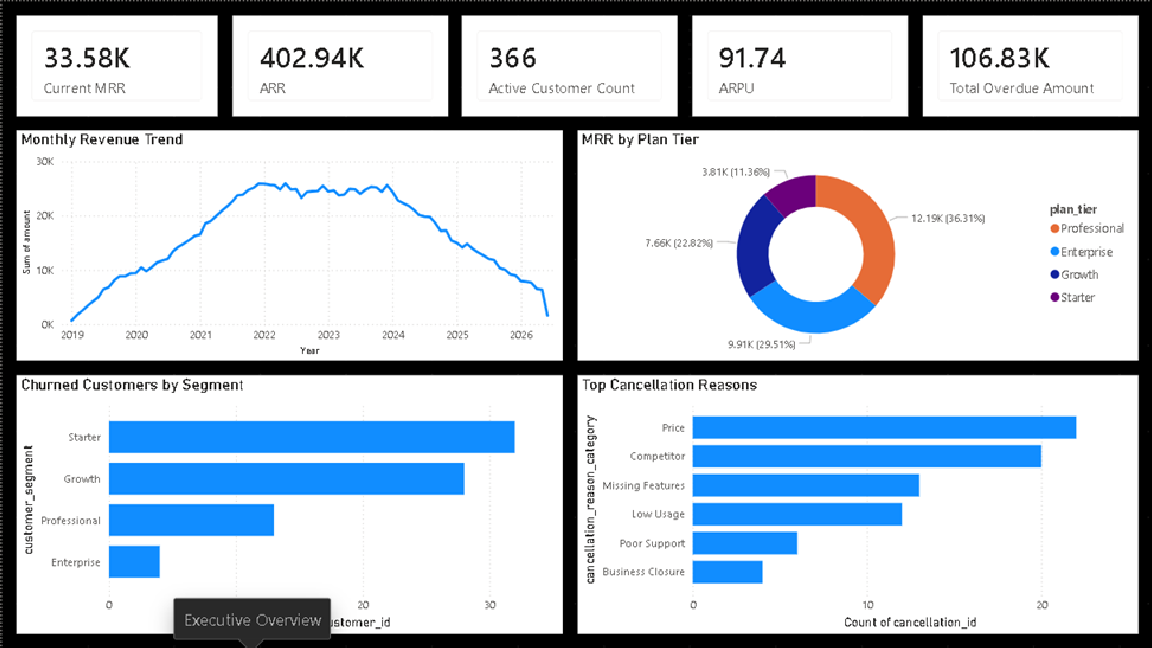

This screenshot's page, from the dashboard's own definition file:
{"tool":"powerbi","page":{"name":"Executive Overview","canvas":[1280,720],"ordinal":0},"visuals":[{"type":"cardVisual","fields":{"Data":["_Measures.Current MRR"]},"box":[16,16,208,112],"z":0},{"type":"cardVisual","fields":{"Data":["_Measures.ARR"]},"box":[240,16,208,112],"z":1000},{"type":"cardVisual","fields":{"Data":["_Measures.Active Customer Count"]},"box":[464,16,208,112],"z":2000},{"type":"cardVisual","fields":{"Data":["_Measures.ARPU"]},"box":[688,16,208,112],"z":3000},{"type":"cardVisual","fields":{"Data":["_Measures.Total Overdue Amount"]},"box":[912,16,208,112],"z":4000},{"type":"lineChart","title":"Monthly Revenue Trend","fields":{"Category":["public payments.payment_date.Variation.Date Hierarchy.Year","public payments.payment_date.Variation.Date Hierarchy.Month"],"Y":["Sum(public payments.amount)"]},"box":[16,144,432,256],"z":5000},{"type":"donutChart","title":"MRR by Plan Tier","fields":{"Category":["public plans.plan_tier"],"Y":["_Measures.Current MRR"]},"box":[464,144,432,256],"z":6000},{"type":"clusteredBarChart","title":"Churned Customers by Segment","fields":{"Category":["public customers.customer_segment"],"Y":["CountNonNull(public cancellations.customer_id)"]},"box":[16,416,432,288],"z":7000},{"type":"clusteredBarChart","title":"Top Cancellation Reasons","fields":{"Category":["public cancellations.cancellation_reason_category"],"Y":["CountNonNull(public cancellations.cancellation_id)"]},"box":[464,416,432,288],"z":7001}]}

Visuals, with their boxes on the page's 1280x720 design canvas (x1, y1, x2, y2). These are canvas units, not pixel positions in the 1152x648 screenshot, which may show the page scaled, cropped or inside an application window:
cardVisual - _Measures.Current MRR: (x1=16, y1=16, x2=224, y2=128)
cardVisual - _Measures.ARR: (x1=240, y1=16, x2=448, y2=128)
cardVisual - _Measures.Active Customer Count: (x1=464, y1=16, x2=672, y2=128)
cardVisual - _Measures.ARPU: (x1=688, y1=16, x2=896, y2=128)
cardVisual - _Measures.Total Overdue Amount: (x1=912, y1=16, x2=1120, y2=128)
"Monthly Revenue Trend" lineChart: (x1=16, y1=144, x2=448, y2=400)
"MRR by Plan Tier" donutChart: (x1=464, y1=144, x2=896, y2=400)
"Churned Customers by Segment" clusteredBarChart: (x1=16, y1=416, x2=448, y2=704)
"Top Cancellation Reasons" clusteredBarChart: (x1=464, y1=416, x2=896, y2=704)
